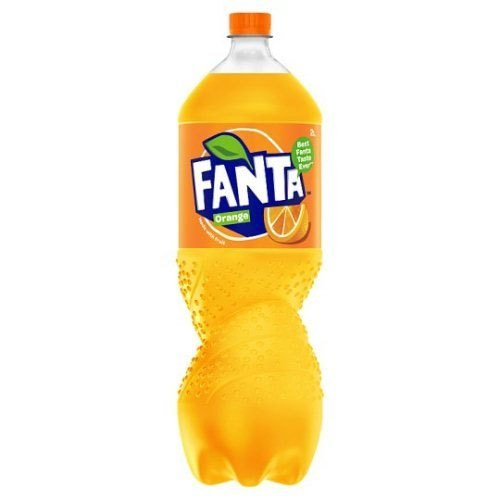fanta_bottle: (176, 10, 323, 487)
